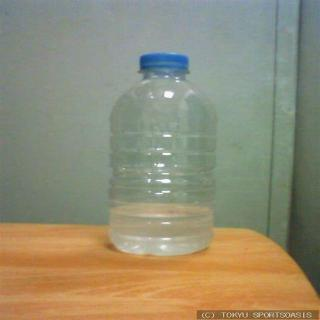Plastic-bottle: (81, 34, 239, 281)
